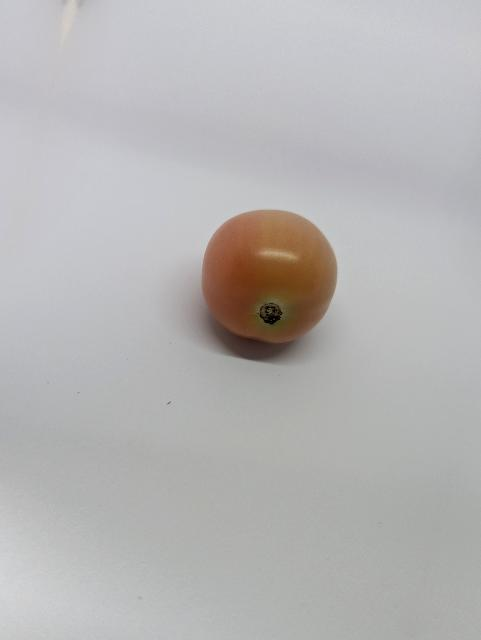turning: (198, 198, 344, 358)
